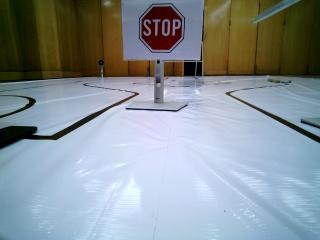stop: (126, 2, 195, 54)
